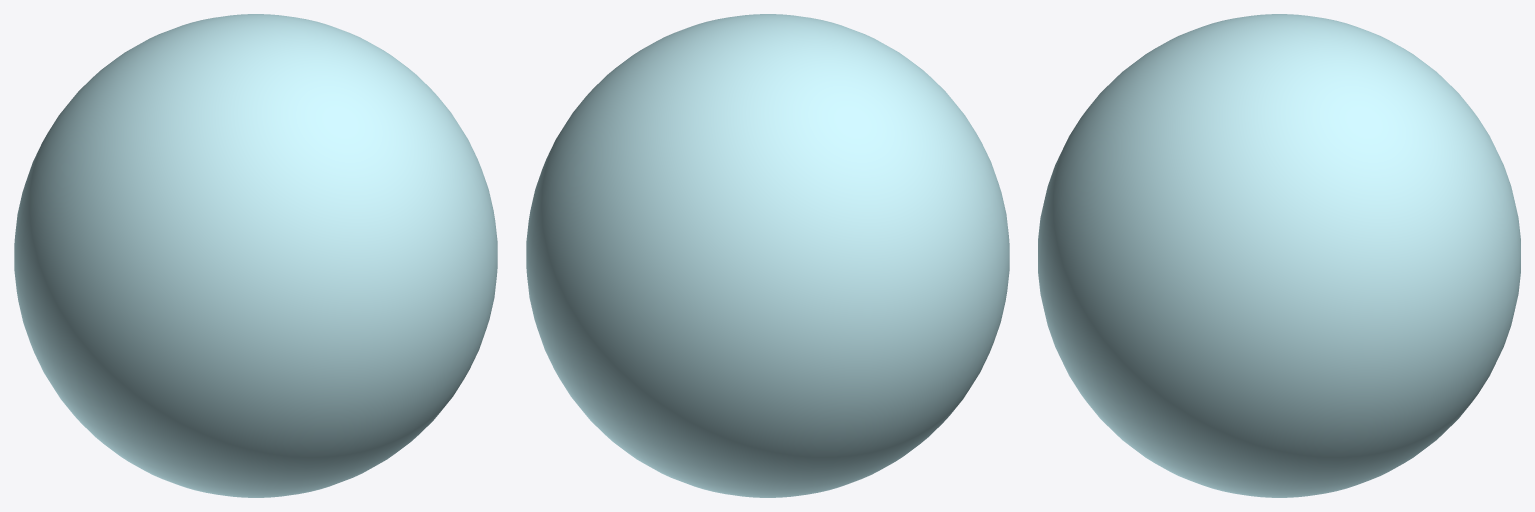
The model's file is qizi_14_2.FBX.
3 renders of one model, left to right at view 1: azimuth 30°, elevation 25°; view 2: azimuth 150°, elevation 25°; view 3: azimuth 270°, elevation 25°, orthographic.
Visible parts, largest first — view 1: qizi_14_2; view 2: qizi_14_2; view 3: qizi_14_2.
Boxes of the visible parts, <box> form: qizi_14_2: <box>14,14,497,497</box>; qizi_14_2: <box>526,14,1009,497</box>; qizi_14_2: <box>1038,14,1520,497</box>.
Bounding box in the file's own units: 96.15 × 96.27 × 96.03.
Materials: 1 (1 with a texture image).
